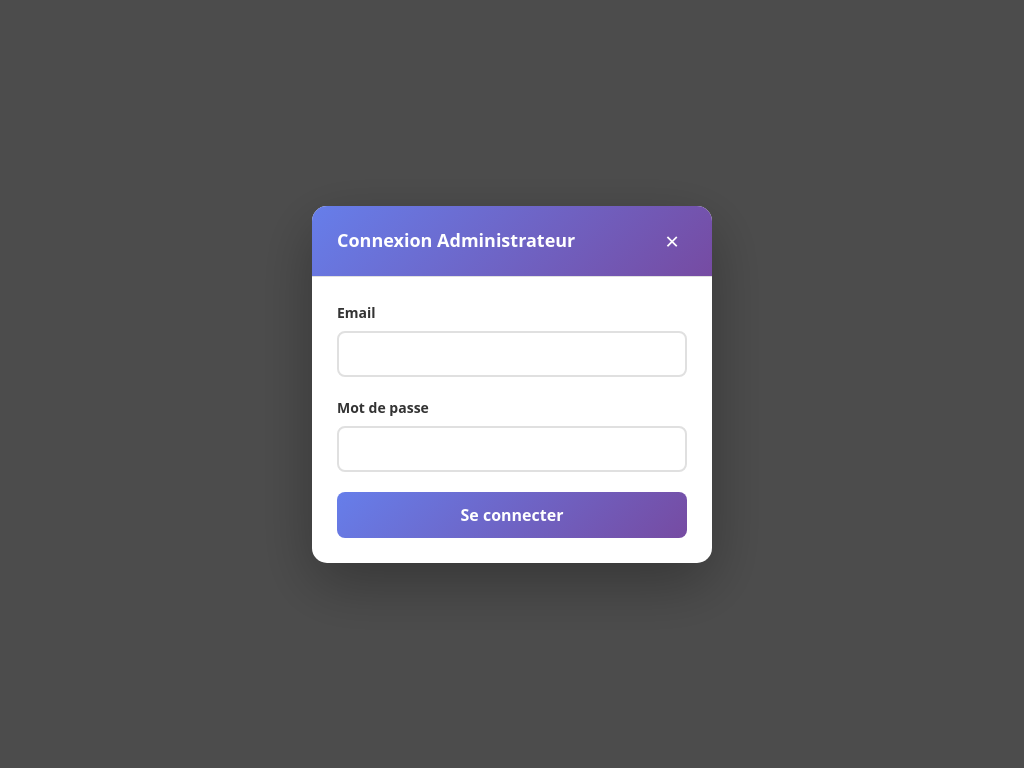
Test: AdminLoginModal › affiche un message d'erreur en cas d'erreur réseau
Type "admin@example.com" into the field labelled "Email" at (512, 354), box [337,330,687,376]
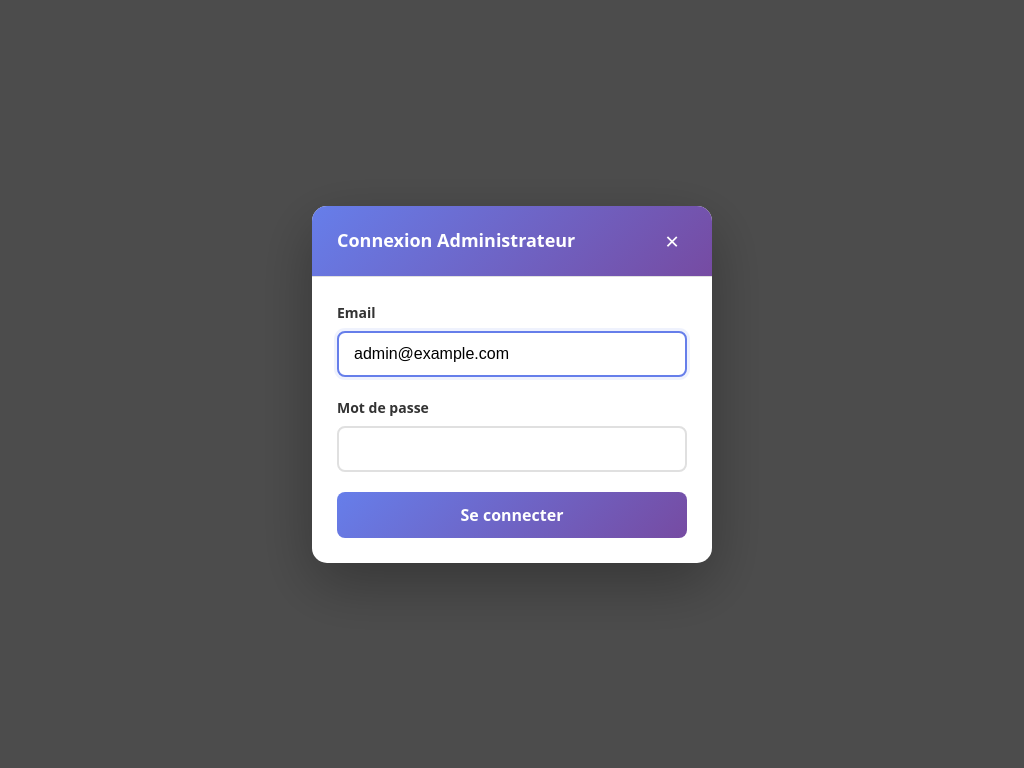
Type "password123" into the password field labelled "Mot de passe" at (512, 448), box [337,426,687,472]
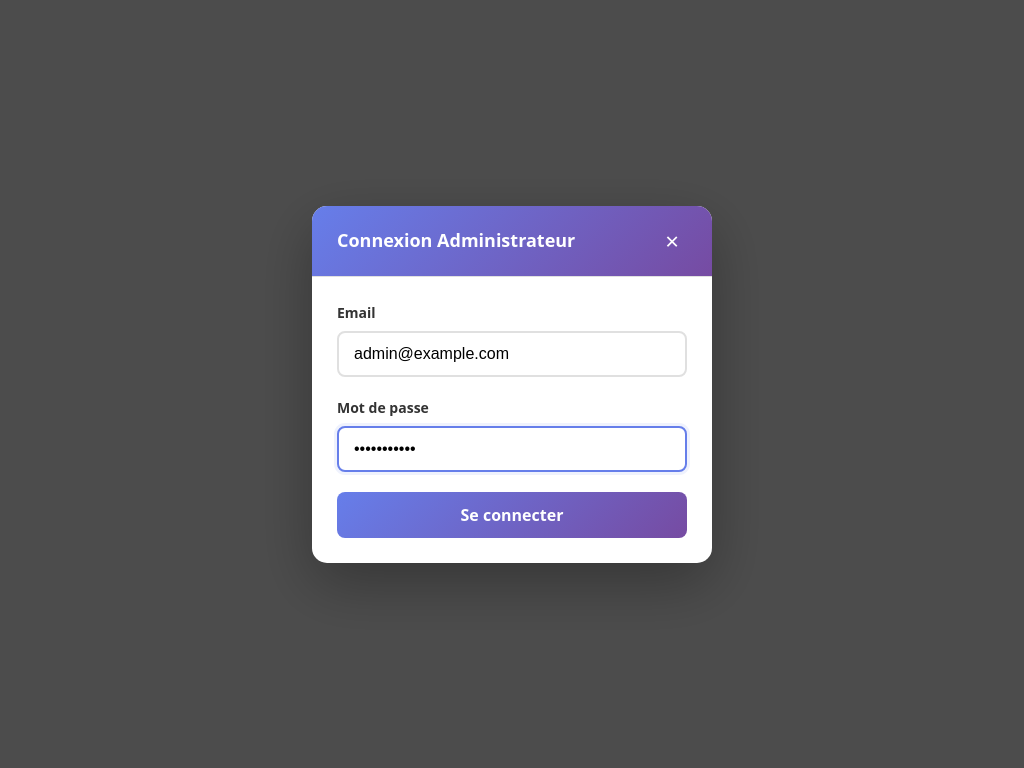
Click the button "Se connecter" at (512, 514), box [337,492,687,538]
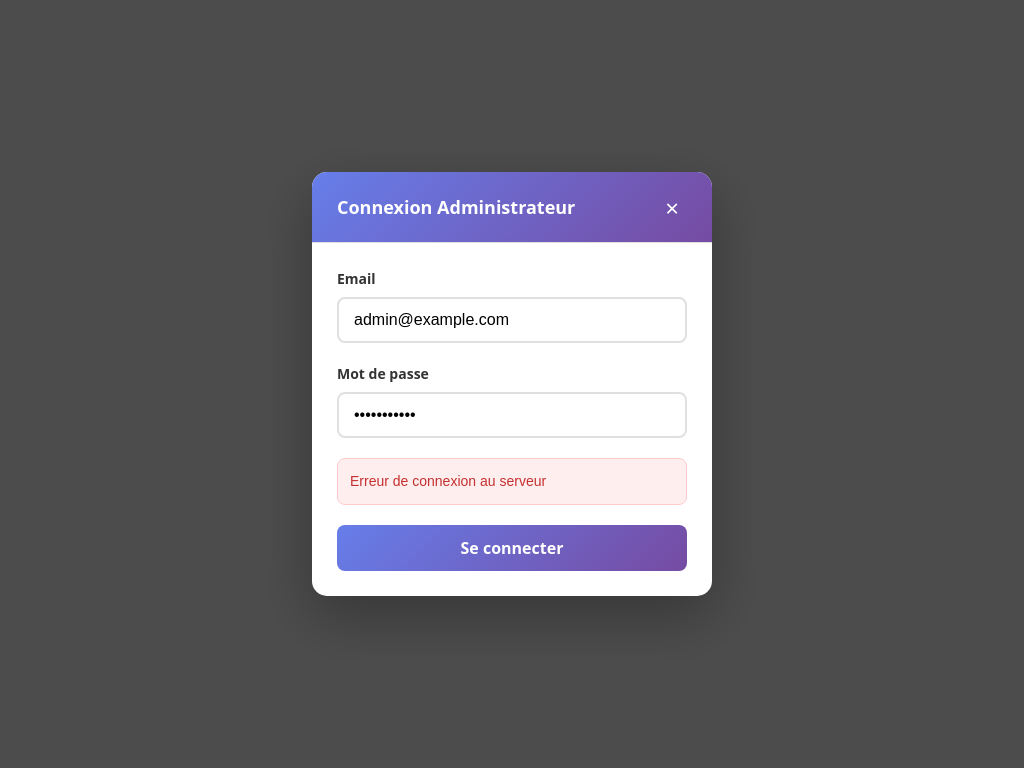
Result: the text "Erreur de connexion au serveur" is shown at [337,458,687,505]
